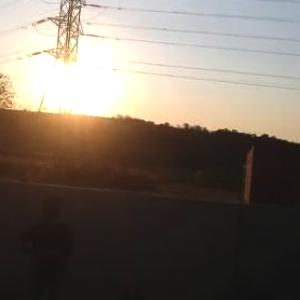follow: (10, 187, 73, 299)
